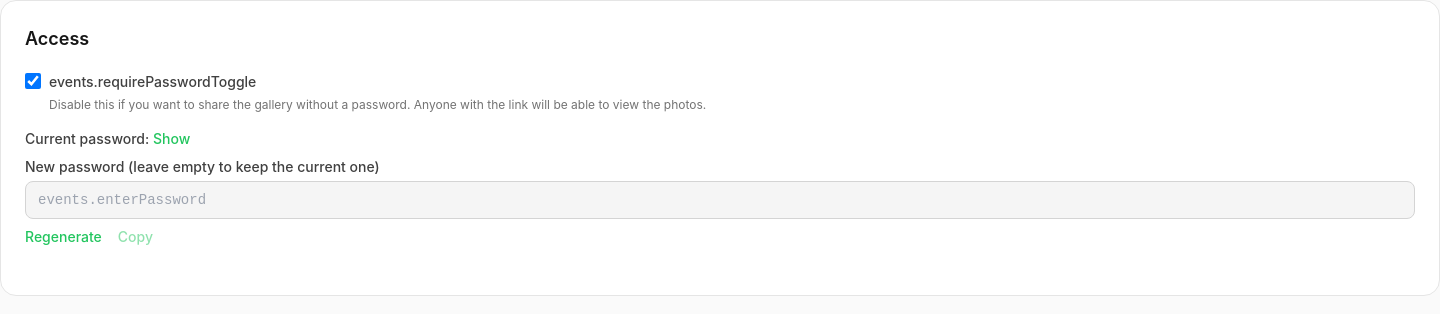
shows a stored password only on request
Click the button "Show" at coordinates (172, 139), box [153, 129, 190, 149]
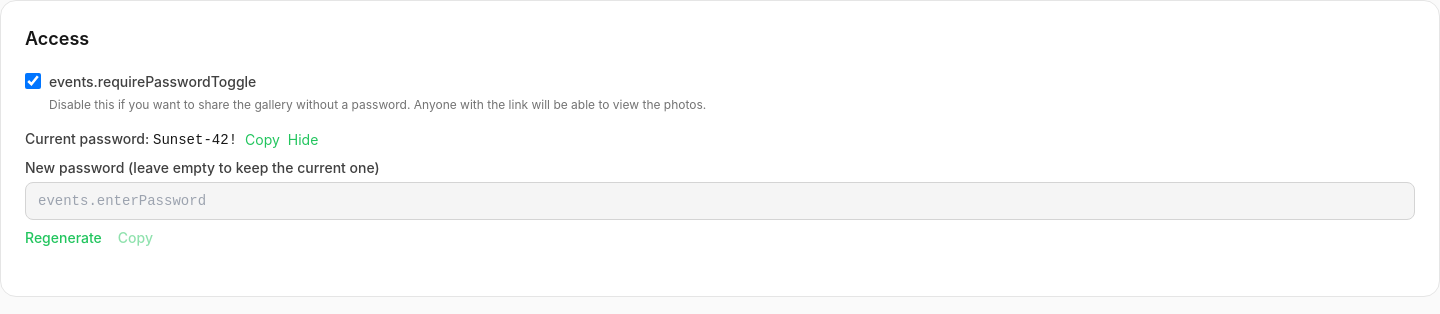
Check: the text "Sunset-42!" is shown, box [153, 130, 237, 150]
